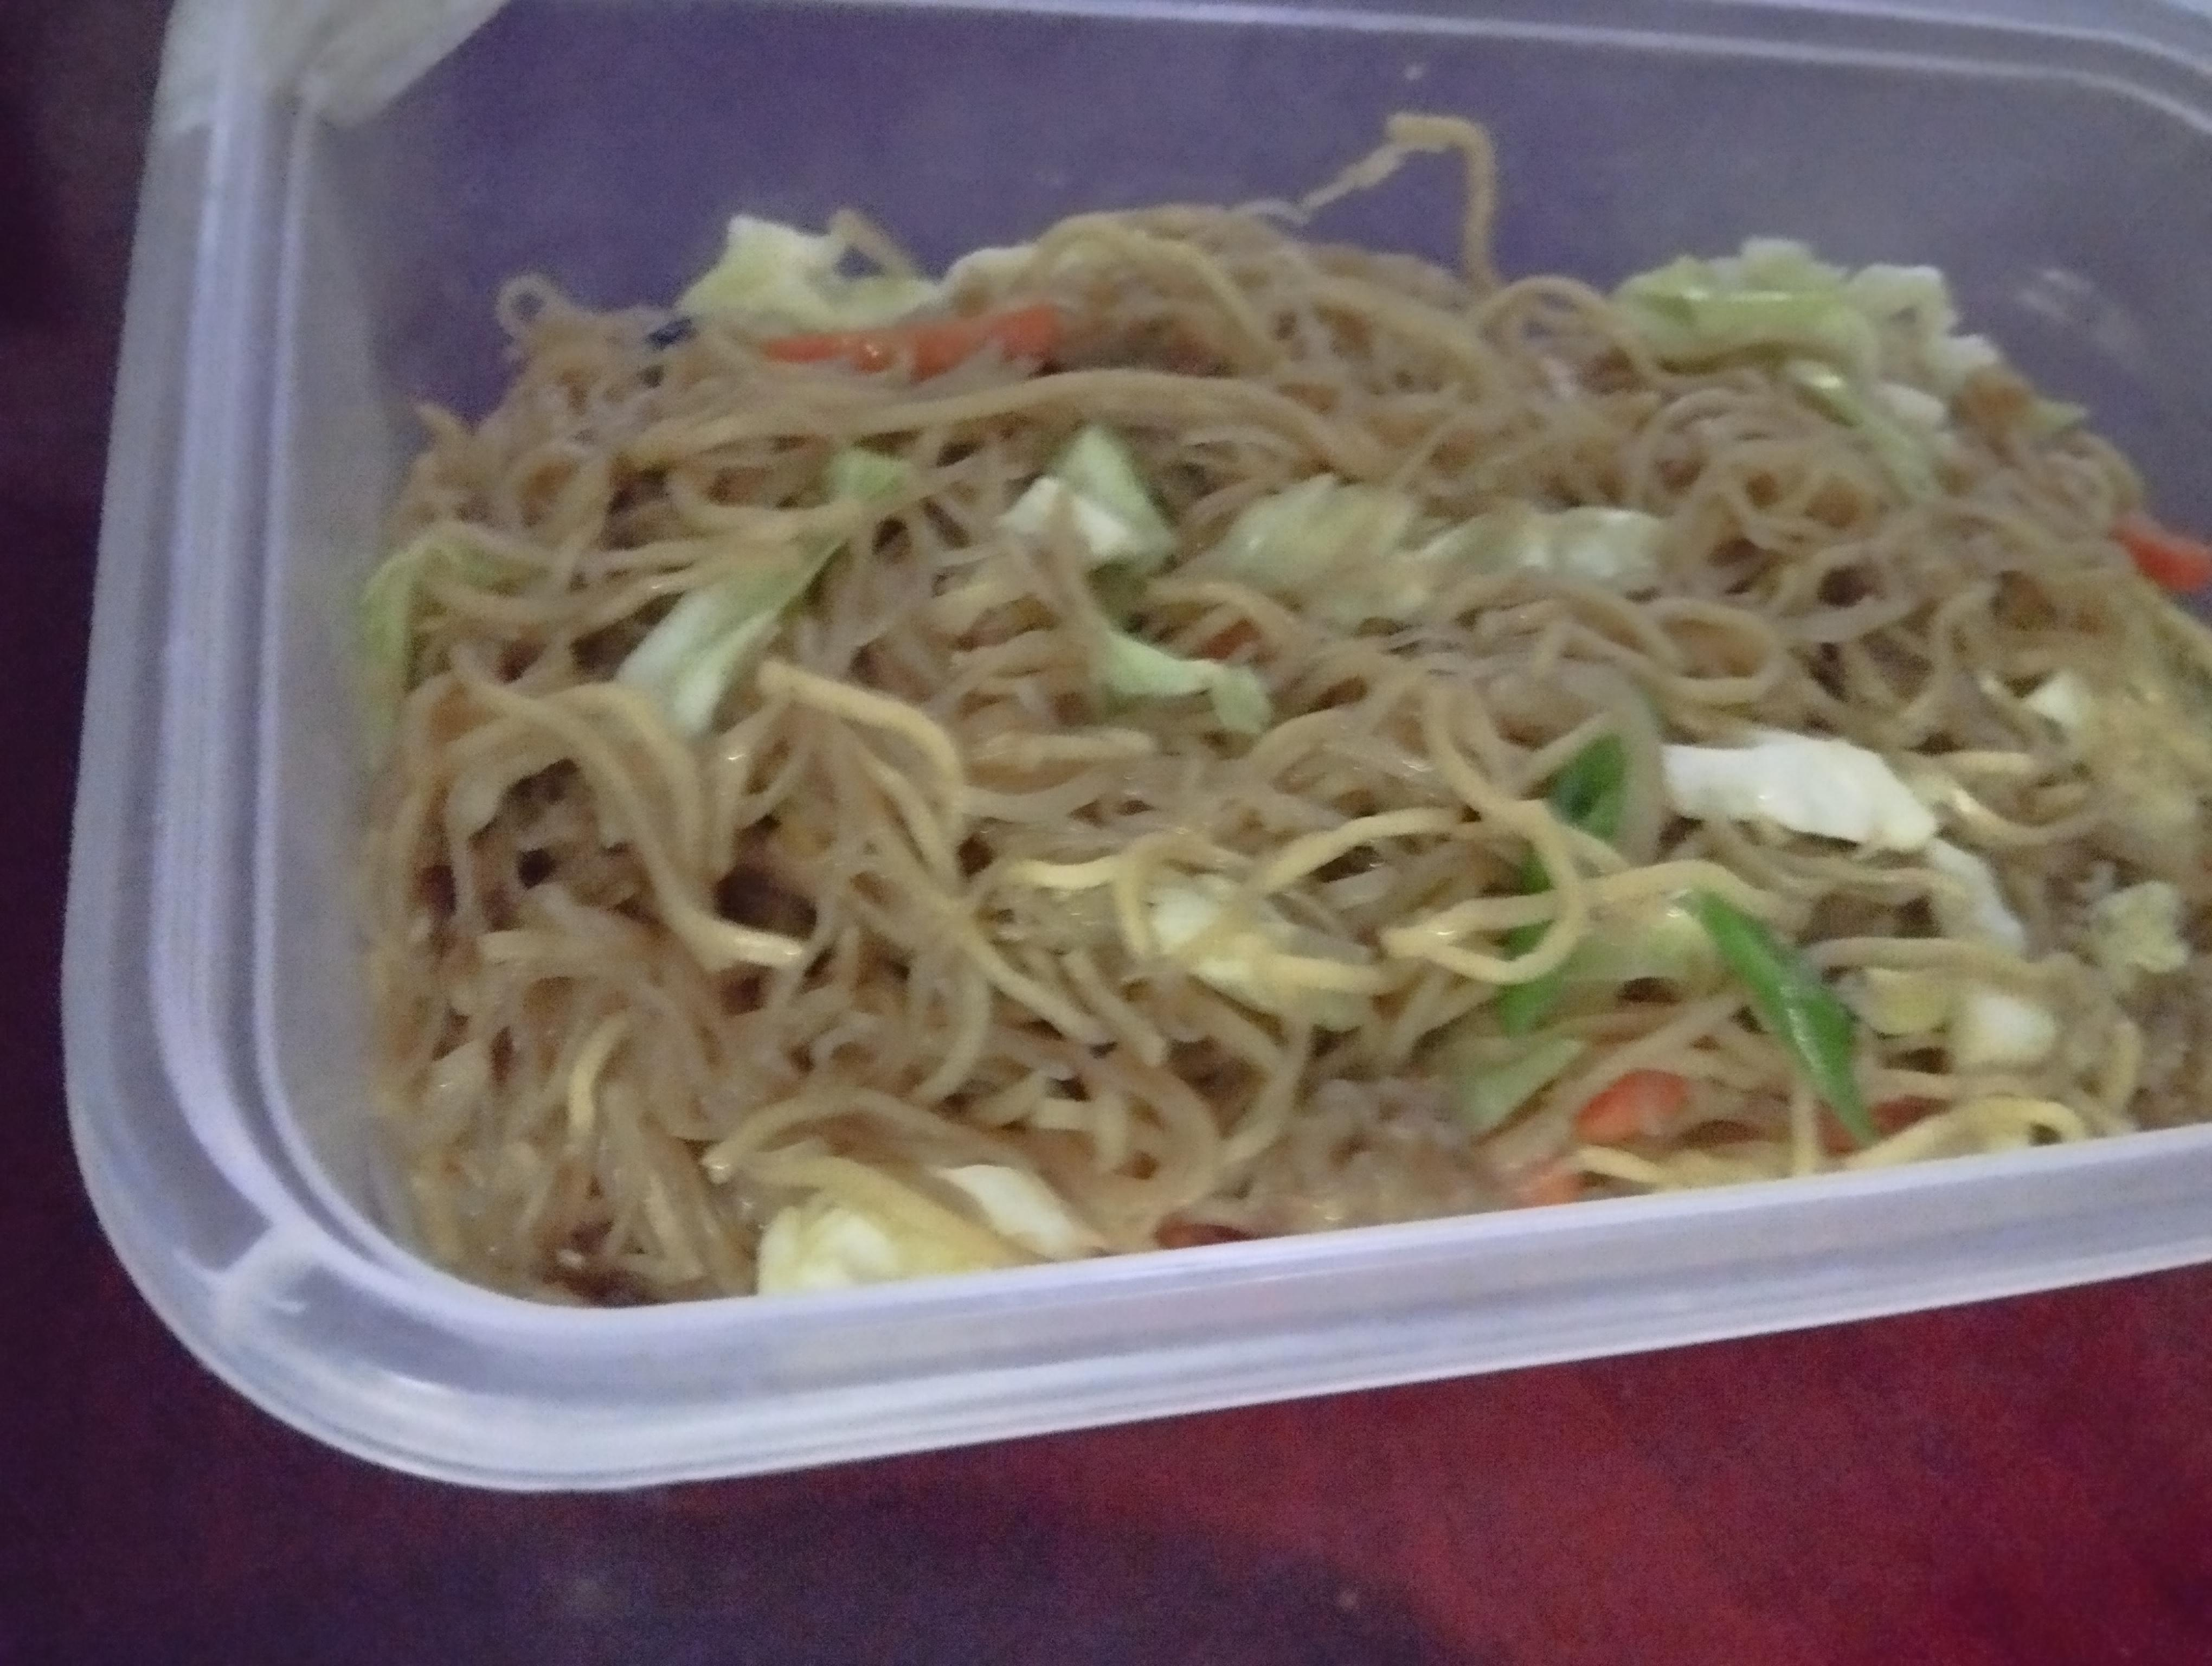pancit bihon: (350, 219, 2212, 1304)
